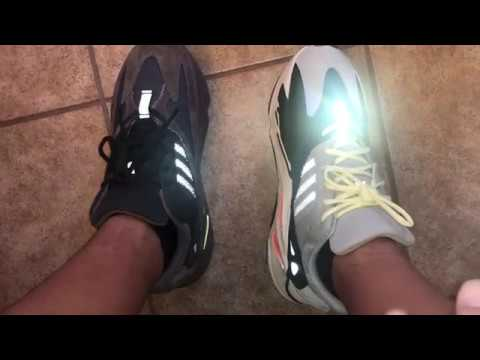adidas Yeezy 700 Mauve: (84, 43, 223, 293)
